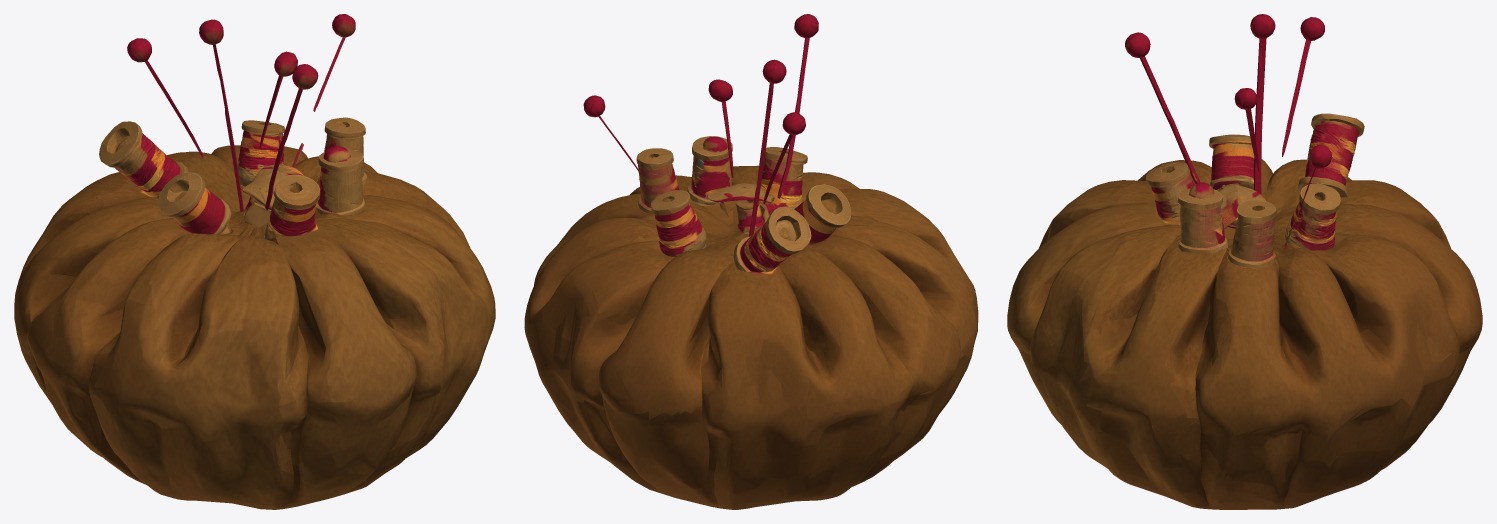
The model's file is TOOL_NEEDLE_THREAD_001.glb.
The picture shows the model from 3 angles, left to right: view 1: azimuth 30°, elevation 25°; view 2: azimuth 150°, elevation 25°; view 3: azimuth 270°, elevation 25°; orthographic projection. The views are drawn at different scales.
Size of the model in its own units: 1.89 by 1.9 by 1.9.
1 material, 1 textured.
